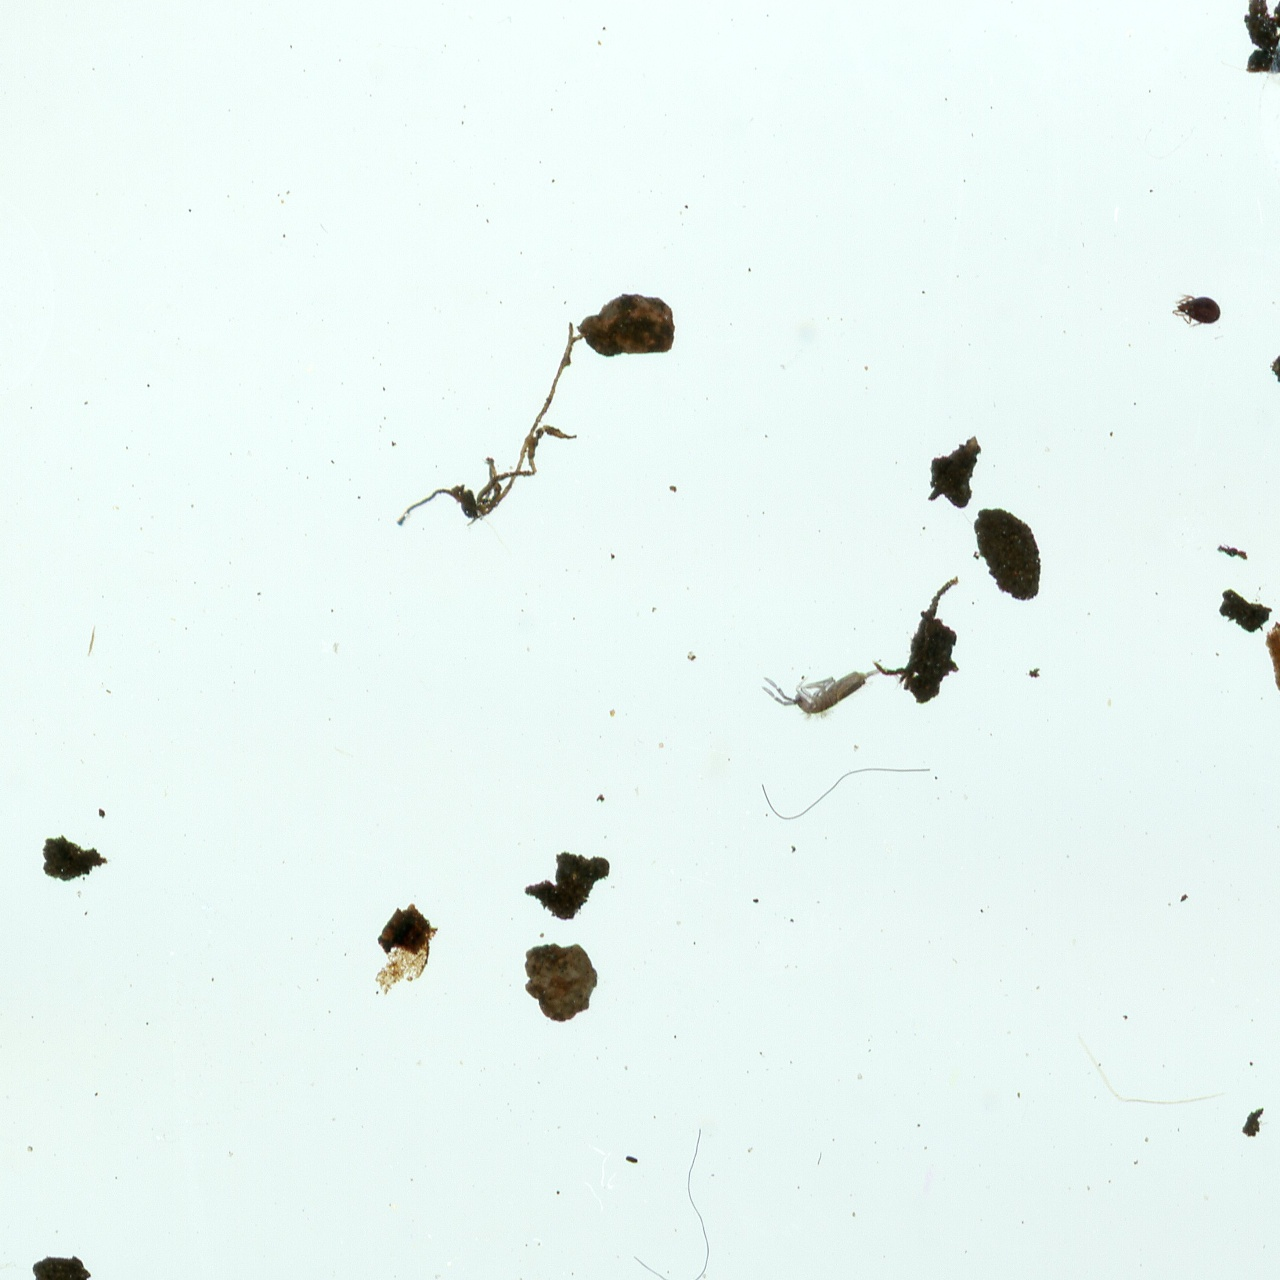arthropod: (754, 663, 900, 727), (1169, 288, 1224, 332)
